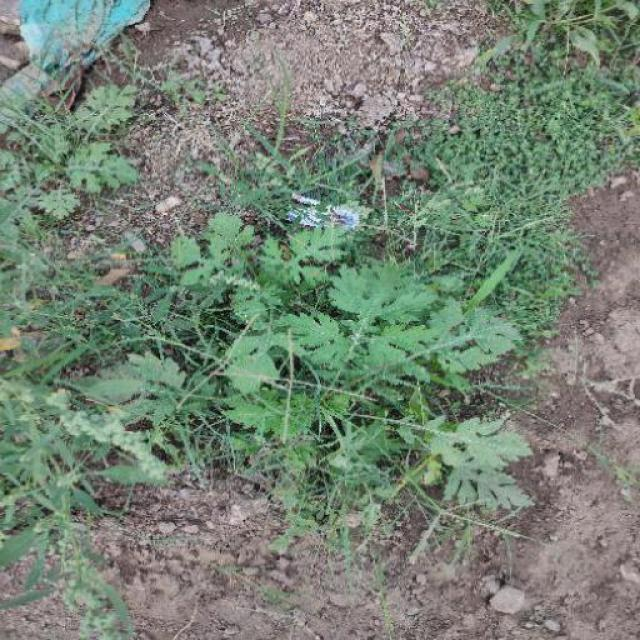weed: (36, 223, 565, 512)
